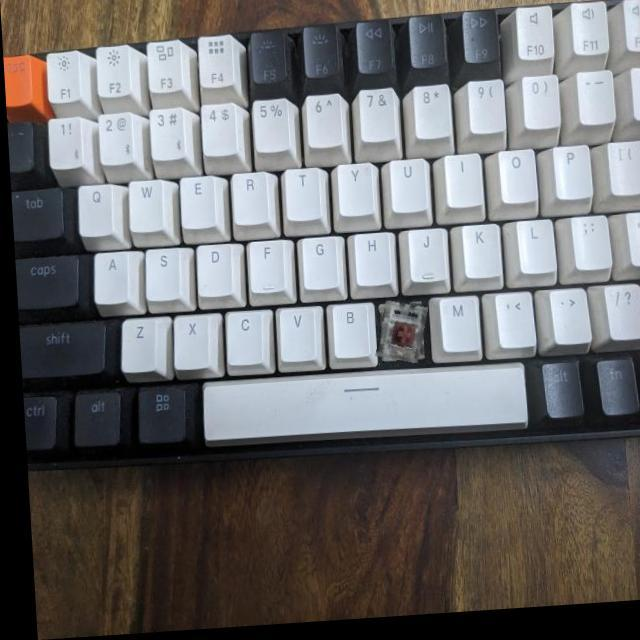key-switch: (371, 303, 423, 369)
